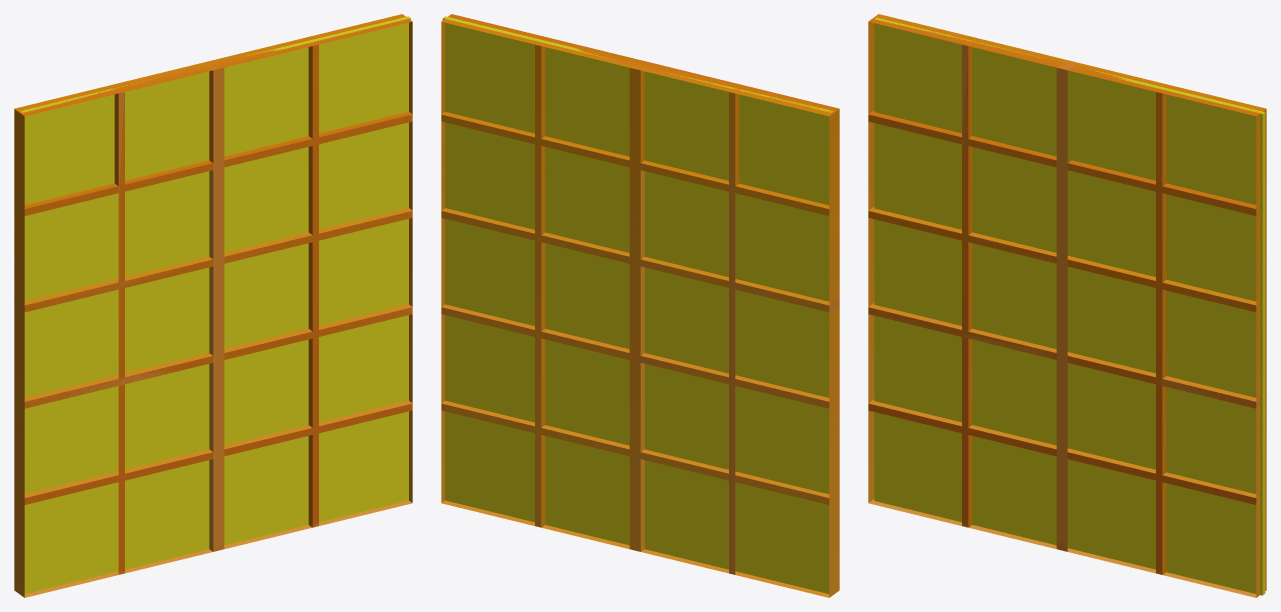
Rendered from piso.obj.
The picture shows the model from 3 angles, left to right: view 1: azimuth 30°, elevation 25°; view 2: azimuth 150°, elevation 25°; view 3: azimuth 330°, elevation 25°; orthographic projection.
Parts seen in each view (by area): view 1: Vidrio1.003_Cube.005_Cube.004, Vidrio1.004_Cube.005_Cube.005; view 2: Vidrio1.003_Cube.005_Cube.004, Vidrio1.004_Cube.005_Cube.005; view 3: Vidrio1.003_Cube.005_Cube.004, Vidrio1.004_Cube.005_Cube.005.
Part boxes in pixels (x1,y1,x2,y2): Vidrio1.003_Cube.005_Cube.004: (21, 16, 410, 593); Vidrio1.004_Cube.005_Cube.005: (14, 14, 412, 597); Vidrio1.003_Cube.005_Cube.004: (442, 16, 832, 593); Vidrio1.004_Cube.005_Cube.005: (441, 14, 839, 597); Vidrio1.003_Cube.005_Cube.004: (874, 17, 1265, 595); Vidrio1.004_Cube.005_Cube.005: (868, 14, 1266, 597).
Bounding box in the file's own units: 9.81 × 11.57 × 0.4565.
